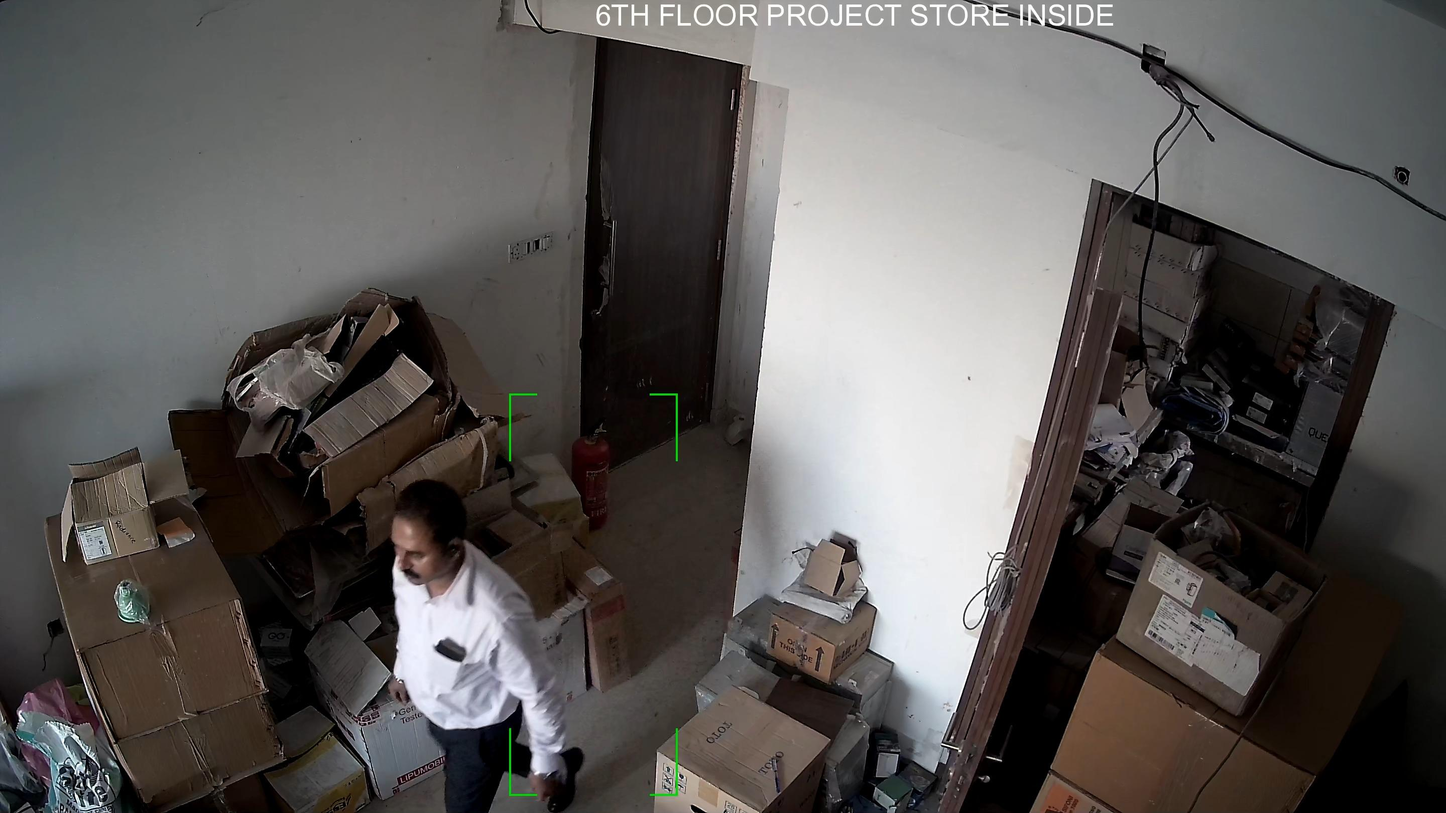Door-Close: (562, 38, 746, 488)
